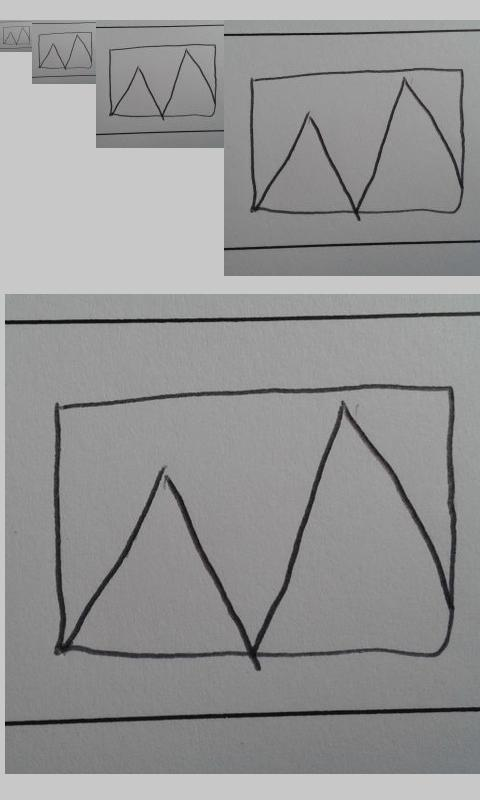image_view: (50, 383, 457, 667), (247, 66, 468, 220), (108, 43, 219, 118), (38, 31, 93, 70), (2, 25, 31, 46)
